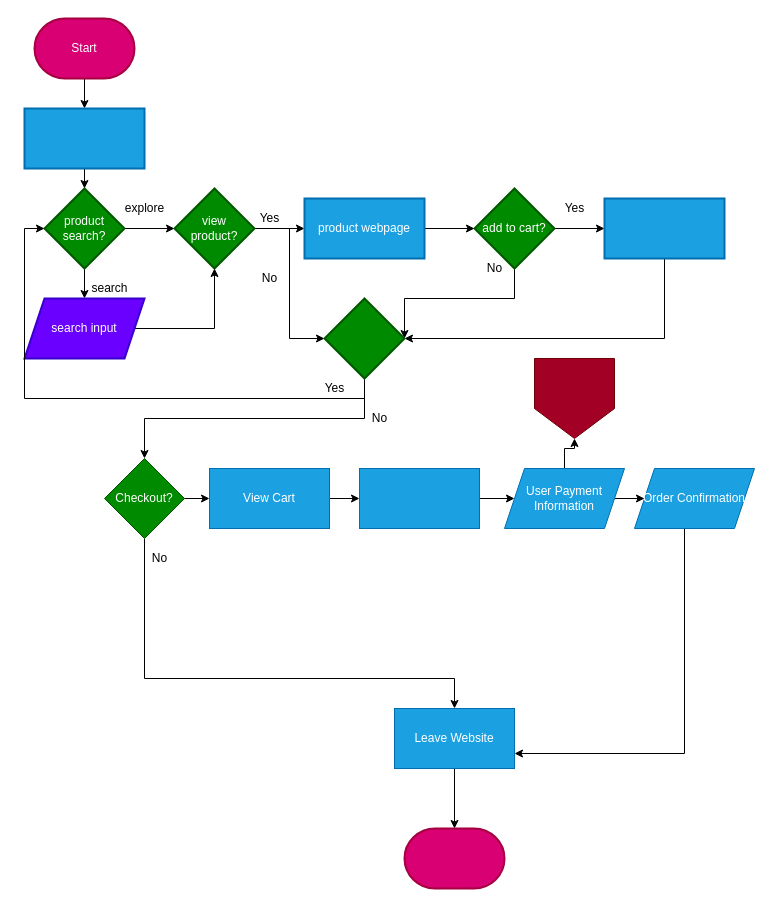
The diagram is 772 pixels wide and 906 high, and some of its shapes have lost their labels. Each missing label, with the centre of its shape:
added to cart confirmation: the point at 664,228
Continue Shopping?: the point at 364,338
email order confirmation: the point at 574,398
End: the point at 454,858
user enters website: the point at 84,138
View Payment: the point at 419,498
